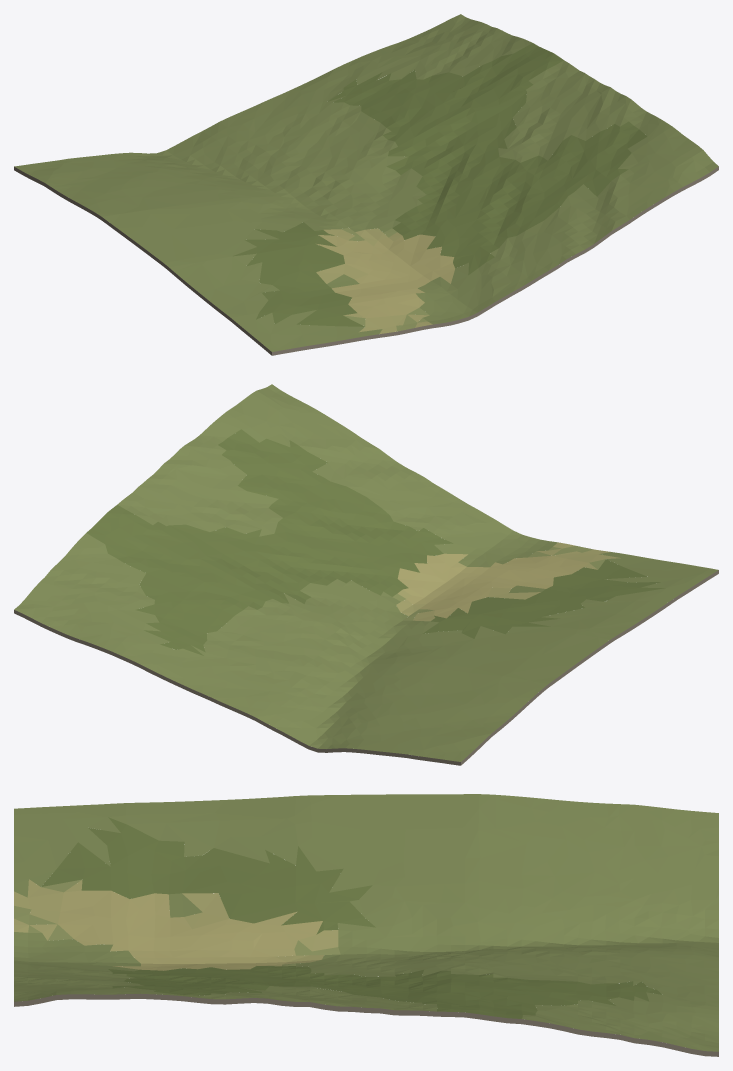
File: parca_+2_-6-uzak.glb
The picture shows the model from 3 angles, top to bottom: view 1: azimuth 30°, elevation 25°; view 2: azimuth 150°, elevation 25°; view 3: azimuth 270°, elevation 25°; orthographic projection. The views are drawn at different scales.
Visible parts, largest first — view 1: parca_+2_-6_arazi_uzak; view 2: parca_+2_-6_arazi_uzak; view 3: parca_+2_-6_arazi_uzak.
Boxes of the visible parts, x1,y1,x2,y2 form: parca_+2_-6_arazi_uzak: (14,14,718,355); parca_+2_-6_arazi_uzak: (14,384,718,765); parca_+2_-6_arazi_uzak: (14,794,718,1056).
Bounding box in the file's own units: 1000 × 238 × 1000.
